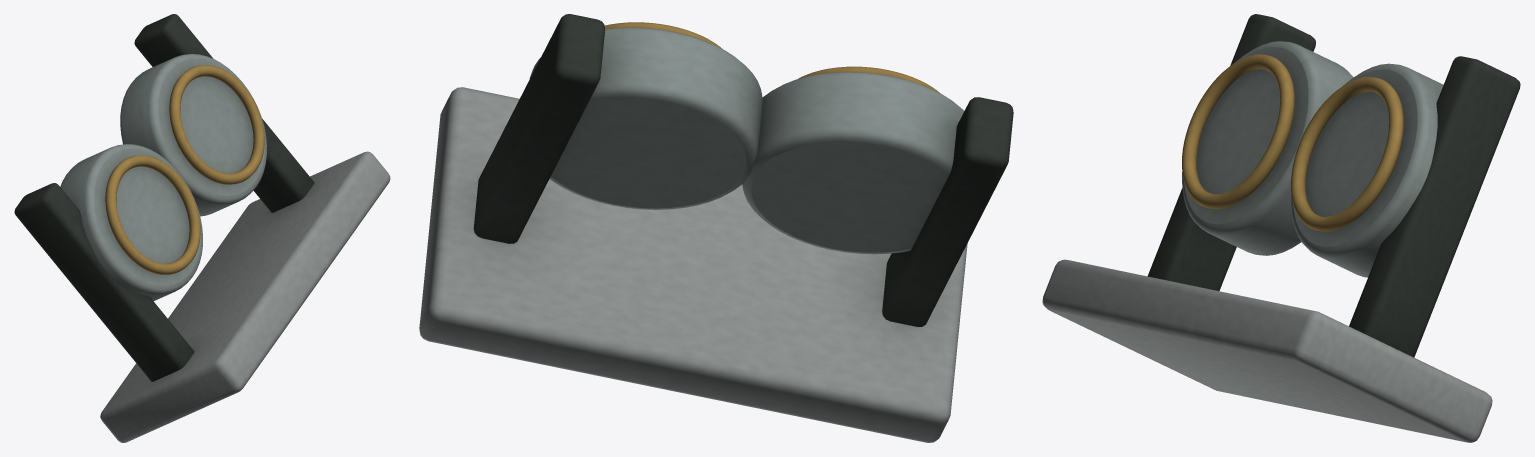
3 views of the same model, side by side, from view 1: azimuth 30°, elevation 25°; view 2: azimuth 150°, elevation 25°; view 3: azimuth 270°, elevation 25° (orthographic). The views are drawn at different scales.
Parts seen in each view (by area): view 1: Bolted mechanical base; view 2: Bolted mechanical base; view 3: Bolted mechanical base.
Boxes of the visible parts, left/top/right/bottom form: Bolted mechanical base: left=14, top=14, right=390, bottom=442; Bolted mechanical base: left=419, top=14, right=1013, bottom=442; Bolted mechanical base: left=1042, top=14, right=1520, bottom=442.
Size of the model in its own units: 1.38 by 1.12 by 1.14.
1 material, 1 textured.
